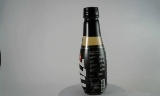appyfizz: (72, 6, 101, 95)
